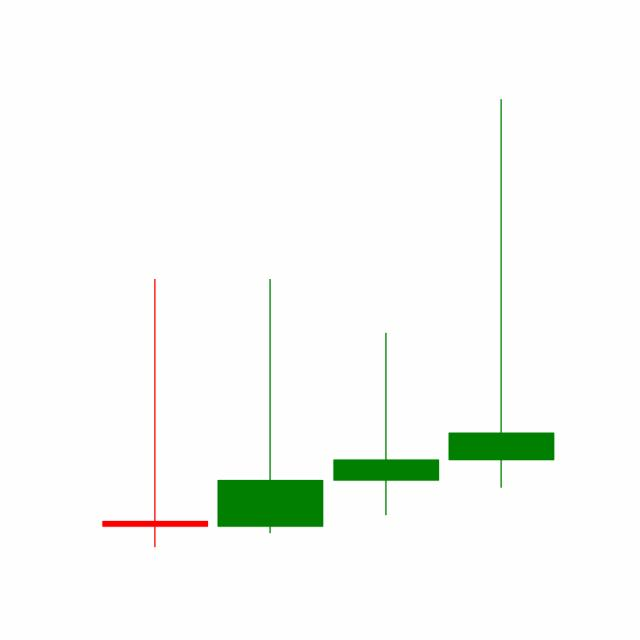Gravestone Doji: (443, 94, 559, 492)
